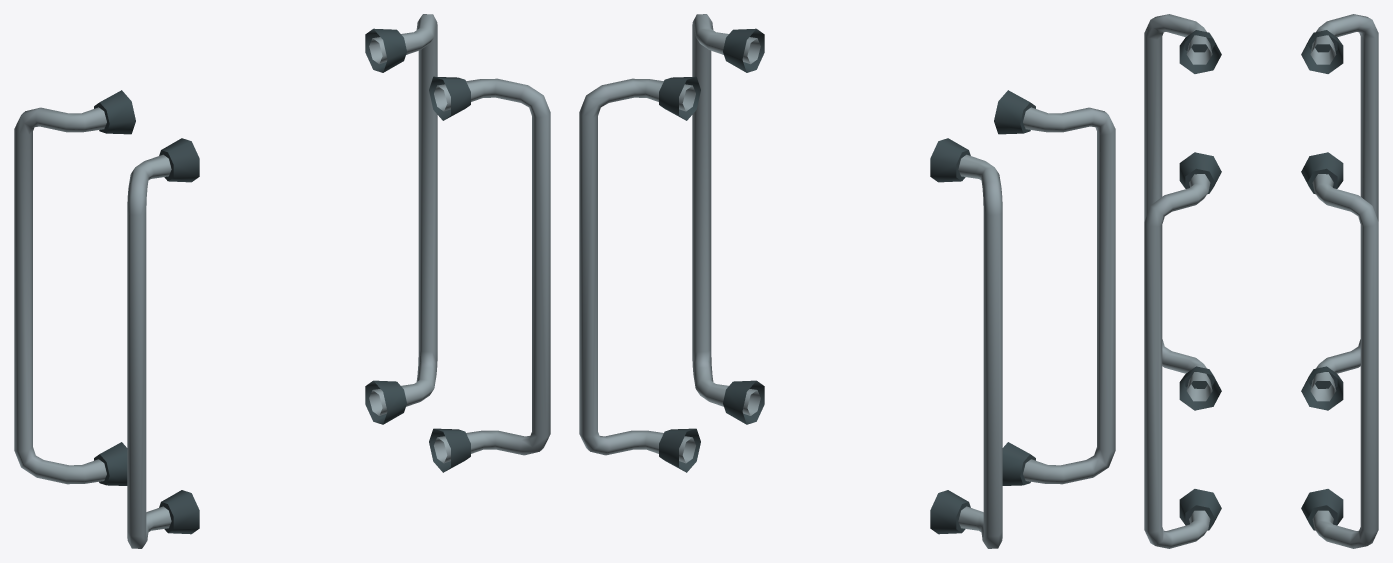
File: Battery_005.fbx
The picture shows the model from 3 angles, left to right: view 1: azimuth 30°, elevation 25°; view 2: azimuth 150°, elevation 25°; view 3: azimuth 270°, elevation 25°; orthographic projection. The views are drawn at different scales.
Parts seen in each view (by area): view 1: Battery_005; view 2: Battery_005; view 3: Battery_005.
Part boxes in pixels (x1,y1,x2,y2): Battery_005: [14, 14, 550, 548]; Battery_005: [579, 14, 1115, 548]; Battery_005: [1144, 14, 1378, 548].
Size of the model in its own units: 67.42 by 34.12 by 60.36.
